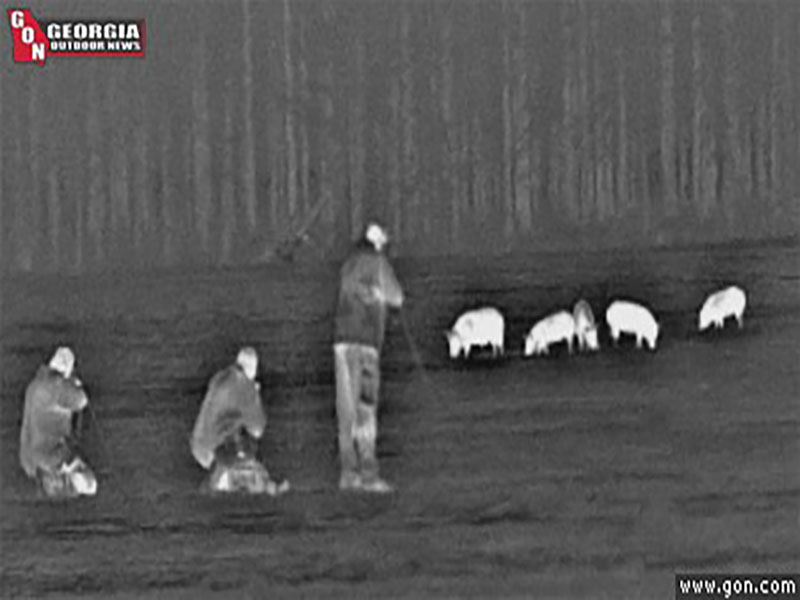cacciatore: (330, 216, 409, 496), (189, 339, 299, 498), (21, 343, 97, 499)
cinghiale: (442, 301, 512, 364), (602, 287, 664, 355), (696, 282, 749, 340), (524, 303, 578, 358), (571, 294, 602, 358)
